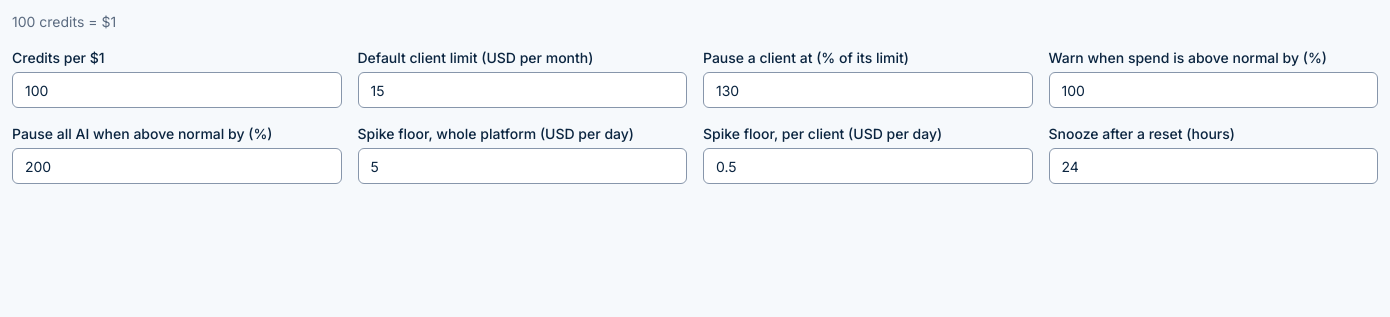
Test: SpendGuardSettings › settings form sends only changed fields
Replace the text in the number field labelled "Default client limit (USD per month)" with "20": [522, 90] box [358, 72, 687, 108]
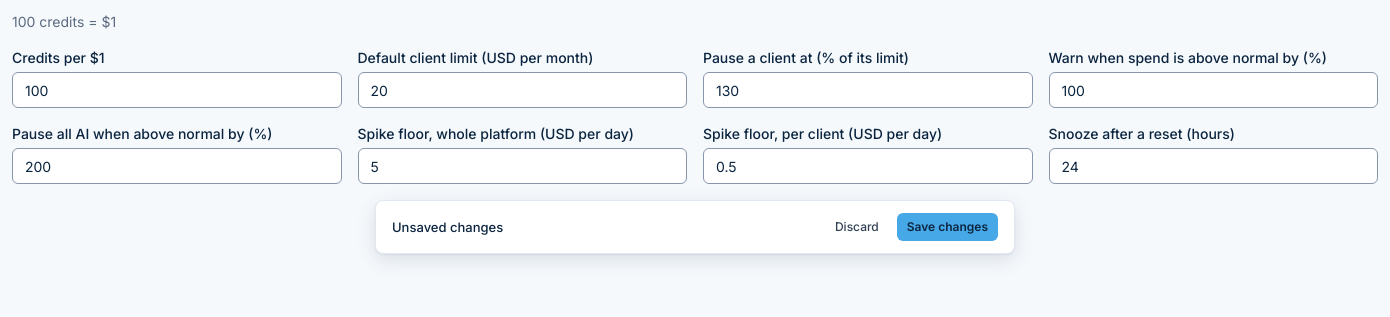
Replace the text in the number field labelled "Snooze after a reset (hours)" with "12": [1213, 166] box [1048, 148, 1378, 184]
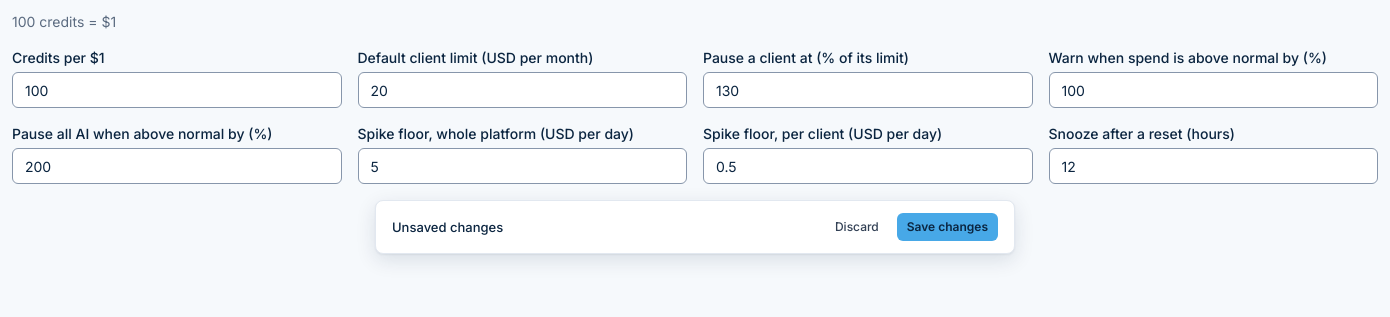
Click the button "Save changes": [947, 227] box [897, 213, 998, 241]
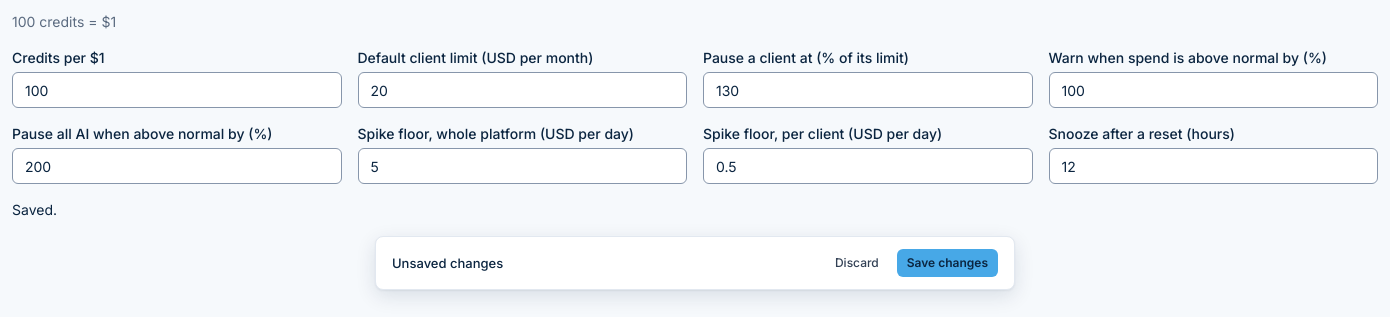
Result: the text "Saved." is shown at [12, 201, 57, 218]
